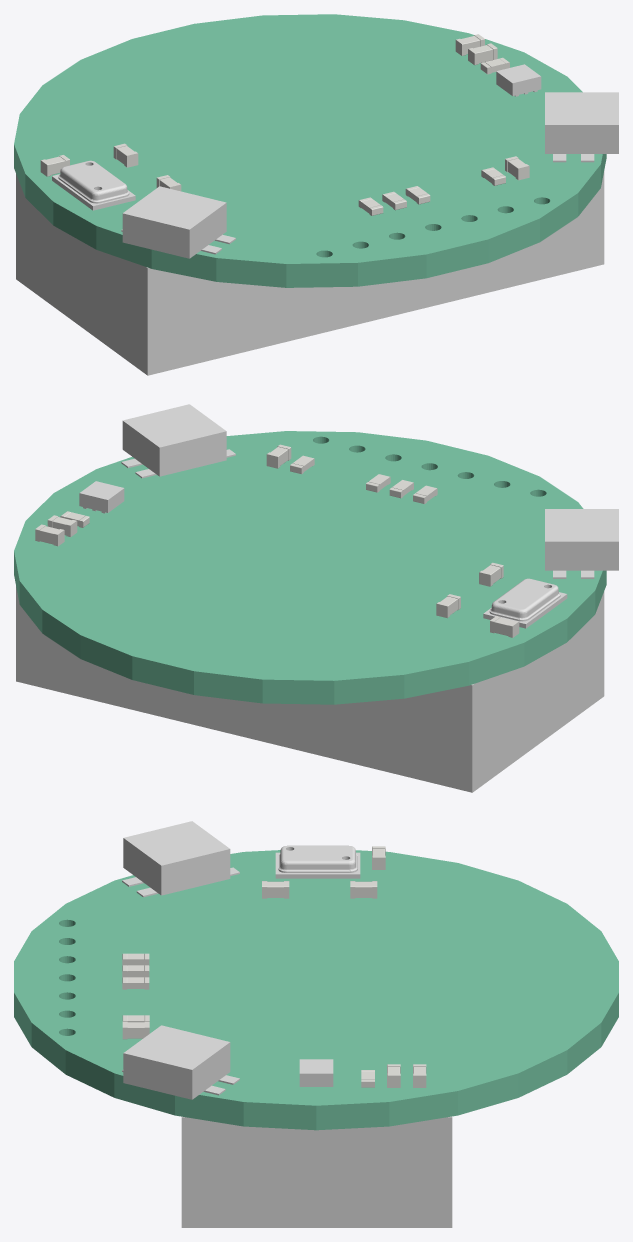
Rendered from sensortag_1.glb.
The picture shows the model from 3 angles, top to bottom: view 1: azimuth 30°, elevation 25°; view 2: azimuth 150°, elevation 25°; view 3: azimuth 270°, elevation 25°; orthographic projection. The views are drawn at different scales.
Visible parts, largest first — view 1: node1, node18, node13, node14, node4, node5, node6; view 2: node1, node18, node14, node13, node4, node5; view 3: node1, node18, node13, node14, node4, node5.
Boxes of the visible parts, <box> form: node1: <box>14,14,606,287</box>; node18: <box>16,171,604,375</box>; node13: <box>121,186,235,258</box>; node14: <box>545,92,618,162</box>; node4: <box>52,160,135,210</box>; node5: <box>496,64,541,96</box>; node6: <box>468,43,497,65</box>; node1: <box>14,431,606,704</box>; node18: <box>16,586,604,792</box>; node14: <box>121,404,235,478</box>; node13: <box>545,509,618,578</box>; node4: <box>483,578,567,628</box>; node5: <box>79,481,124,513</box>; node1: <box>14,850,618,1130</box>; node18: <box>181,1116,452,1227</box>; node13: <box>122,821,239,897</box>; node14: <box>122,1025,239,1099</box>; node4: <box>275,845,360,878</box>; node5: <box>299,1059,333,1086</box>.
Bounding box in the file's own units: 0.036 × 0.0109 × 0.0357.
